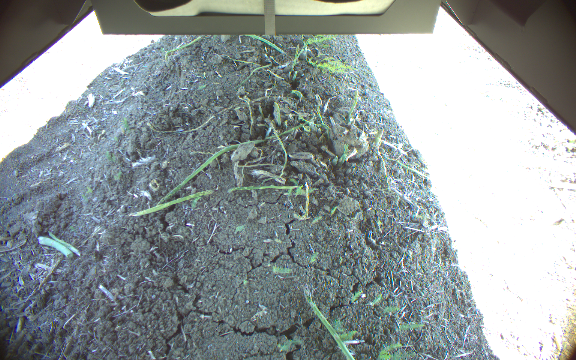aspa: (271, 100, 282, 127), (371, 128, 384, 150), (347, 90, 358, 116), (290, 43, 300, 71)
